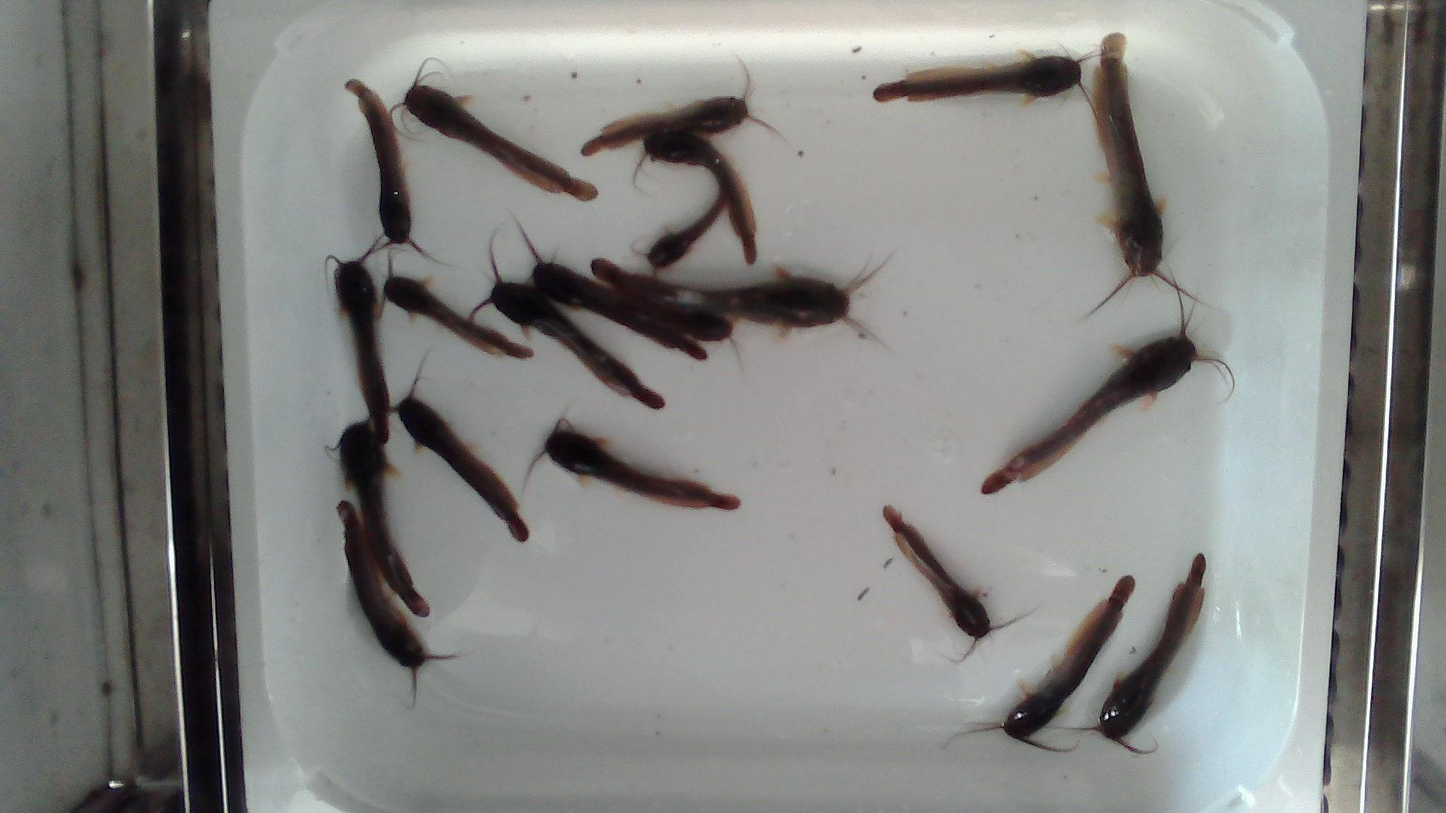lele: (982, 327, 1199, 493), (471, 223, 664, 409), (1084, 33, 1207, 319), (512, 210, 712, 364), (384, 56, 596, 199), (590, 254, 894, 347), (575, 52, 789, 158), (1002, 576, 1133, 742), (1098, 554, 1205, 744), (399, 396, 529, 541), (545, 420, 739, 510), (633, 130, 759, 266), (340, 423, 426, 613), (340, 502, 429, 669), (883, 506, 990, 638), (590, 279, 743, 364), (384, 276, 532, 358), (346, 81, 411, 242), (335, 260, 389, 444), (874, 55, 1081, 102), (634, 184, 725, 279)
